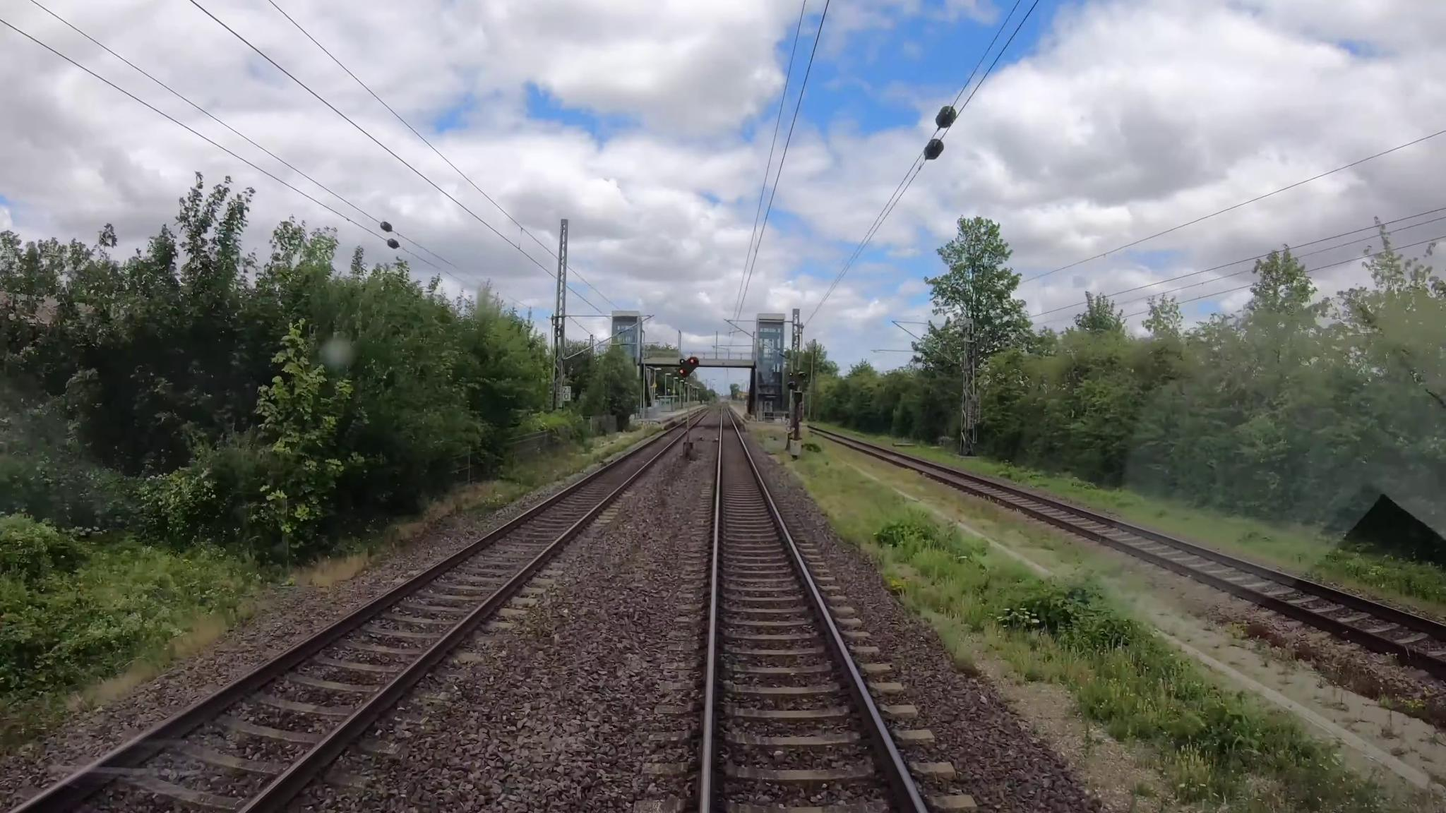Plant: (731, 405, 1438, 810)
